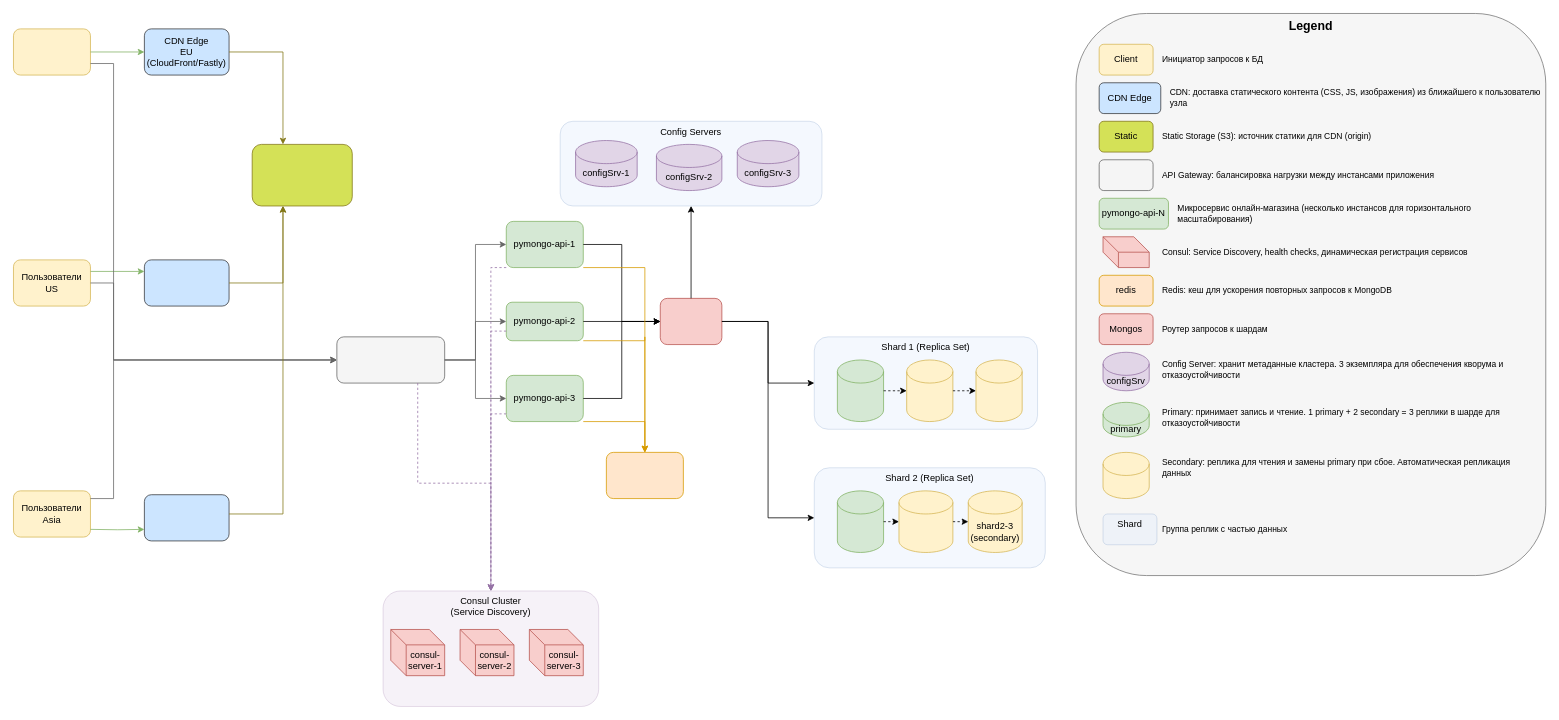
The diagram is 1559 pixels wide and 720 high, and some of its shapes have lost their labels. The centre of each missing label's shape, as x and y in pixels:
"API Gateway" goes at pixel 390 359.
"CDN Edge Asia (CloudFront/Fastly)" goes at pixel 186 517.
"CDN Edge US (CloudFront/Fastly)" goes at pixel 186 282.
"Mongos (Router)" goes at pixel 691 321.
"Redis (Cache)" goes at pixel 644 475.
"secondary" goes at pixel 1125 475.
"shard1-1 (primary)" goes at pixel 860 390.
"shard1-2 (secondary)" goes at pixel 929 390.
"shard1-3 (secondary)" goes at pixel 998 390.
"shard2-1 (primary)" goes at pixel 860 521.
"shard2-2 (secondary)" goes at pixel 925 521.
"Static Storage (S3 / Object Storage) Origin для CDN" goes at pixel 301 175.
"Пользователи EU" goes at pixel 51 51.
